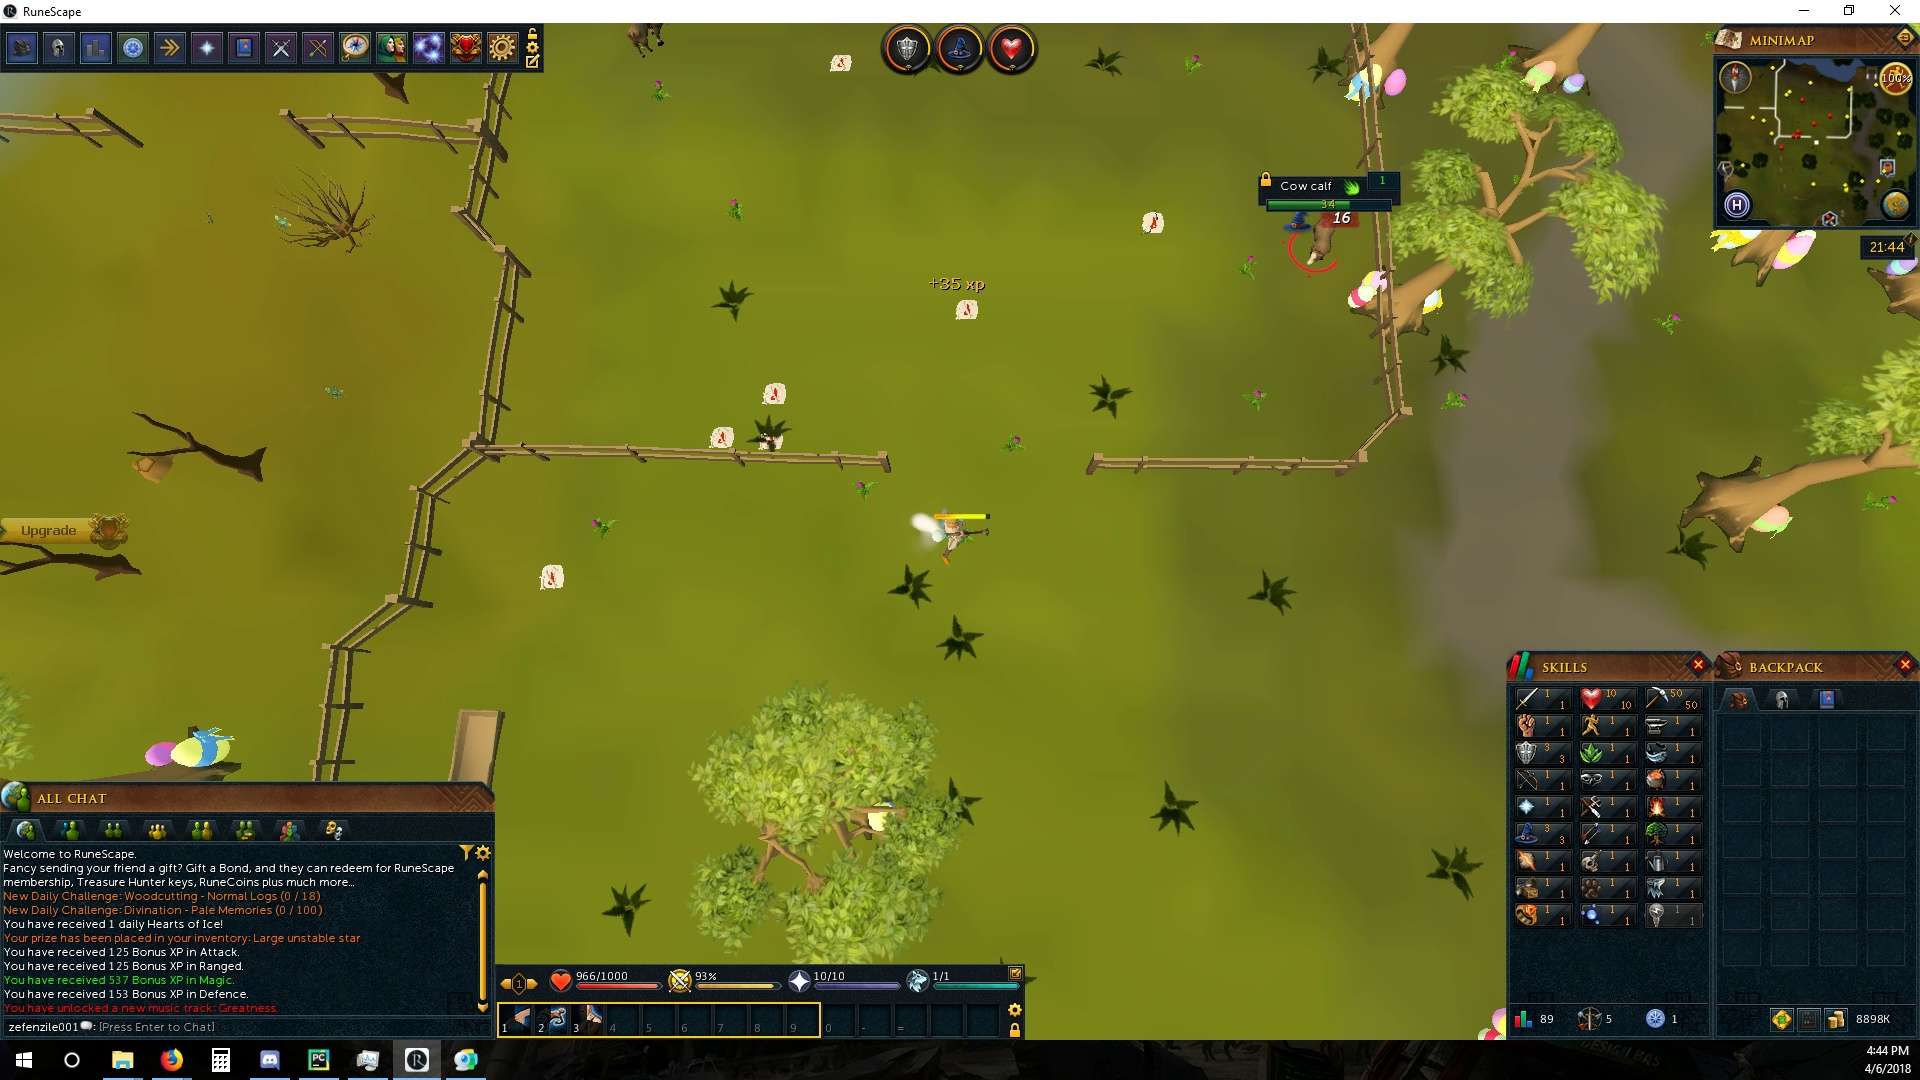calf: (1305, 211, 1338, 265)
cow_drop: (535, 560, 564, 592), (1134, 207, 1164, 236), (708, 421, 738, 448), (761, 378, 791, 406), (949, 295, 980, 322), (825, 50, 855, 74)
